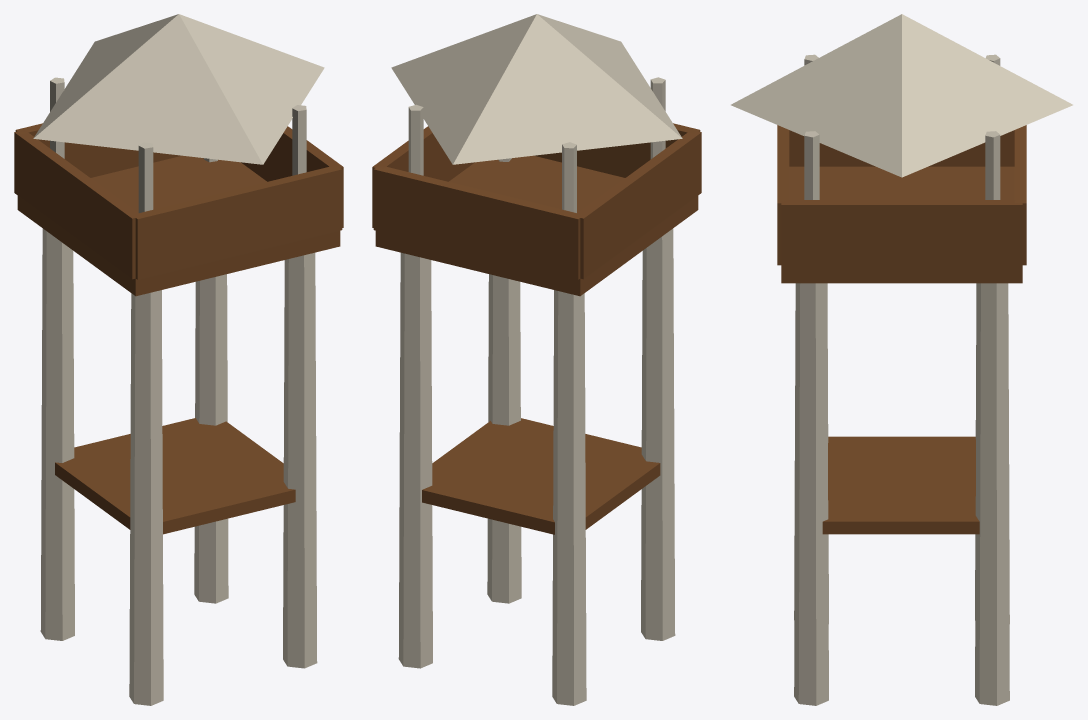
Rendered from centaur_tower_broken.glb.
3 views of the same model, side by side, from view 1: azimuth 30°, elevation 25°; view 2: azimuth 150°, elevation 25°; view 3: azimuth 270°, elevation 25° (orthographic). The views are drawn at different scales.
Parts seen in each view (by area): view 1: centaur_tower_piece6, centaur_tower_piece4, centaur_tower_piece3, centaur_tower_piece2, centaur_tower_piece9, centaur_tower_piece0, centaur_tower_piece1, centaur_tower_piece8, centaur_tower_piece5, centaur_tower_piece10, centaur_tower_piece12, centaur_tower_piece11 (+1 smaller); view 2: centaur_tower_piece0, centaur_tower_piece2, centaur_tower_piece3, centaur_tower_piece4, centaur_tower_piece10, centaur_tower_piece8, centaur_tower_piece9, centaur_tower_piece11, centaur_tower_piece1, centaur_tower_piece6, centaur_tower_piece5, centaur_tower_piece7 (+1 smaller); view 3: centaur_tower_piece6, centaur_tower_piece2, centaur_tower_piece4, centaur_tower_piece5, centaur_tower_piece3, centaur_tower_piece0, centaur_tower_piece1, centaur_tower_piece10, centaur_tower_piece8, centaur_tower_piece11, centaur_tower_piece9, centaur_tower_piece7.
Part boxes in pixels (x1=…): centaur_tower_piece6: x1=219, y1=43, x2=343, y2=310; centaur_tower_piece4: x1=136, y1=334, x2=317, y2=705; centaur_tower_piece3: x1=68, y1=146, x2=241, y2=498; centaur_tower_piece2: x1=122, y1=14, x2=258, y2=284; centaur_tower_piece9: x1=36, y1=35, x2=175, y2=219; centaur_tower_piece0: x1=14, y1=38, x2=119, y2=398; centaur_tower_piece1: x1=41, y1=157, x2=168, y2=596; centaur_tower_piece8: x1=103, y1=389, x2=173, y2=704; centaur_tower_piece5: x1=202, y1=264, x2=316, y2=528; centaur_tower_piece10: x1=40, y1=366, x2=224, y2=640; centaur_tower_piece12: x1=41, y1=181, x2=125, y2=495; centaur_tower_piece11: x1=84, y1=32, x2=156, y2=183; centaur_tower_piece0: x1=494, y1=112, x2=682, y2=473; centaur_tower_piece2: x1=372, y1=14, x2=644, y2=365; centaur_tower_piece3: x1=523, y1=44, x2=701, y2=485; centaur_tower_piece4: x1=399, y1=405, x2=651, y2=639; centaur_tower_piece10: x1=398, y1=436, x2=586, y2=705; centaur_tower_piece8: x1=599, y1=322, x2=675, y2=640; centaur_tower_piece9: x1=490, y1=47, x2=681, y2=226; centaur_tower_piece11: x1=426, y1=111, x2=507, y2=278; centaur_tower_piece1: x1=426, y1=224, x2=638, y2=657; centaur_tower_piece6: x1=391, y1=35, x2=627, y2=194; centaur_tower_piece5: x1=400, y1=274, x2=525, y2=439; centaur_tower_piece7: x1=403, y1=182, x2=588, y2=486; centaur_tower_piece6: x1=731, y1=84, x2=999, y2=346; centaur_tower_piece2: x1=769, y1=14, x2=1032, y2=393; centaur_tower_piece4: x1=794, y1=441, x2=1008, y2=705; centaur_tower_piece5: x1=794, y1=319, x2=1008, y2=566; centaur_tower_piece3: x1=777, y1=125, x2=935, y2=482; centaur_tower_piece0: x1=926, y1=54, x2=1026, y2=357; centaur_tower_piece1: x1=882, y1=167, x2=1009, y2=574; centaur_tower_piece10: x1=959, y1=481, x2=1009, y2=705; centaur_tower_piece8: x1=794, y1=309, x2=897, y2=600; centaur_tower_piece11: x1=1012, y1=72, x2=1072, y2=170; centaur_tower_piece9: x1=804, y1=54, x2=966, y2=199; centaur_tower_piece7: x1=859, y1=170, x2=1008, y2=499.
Bounding box in the file's own units: 1.71 × 3.55 × 1.71.
